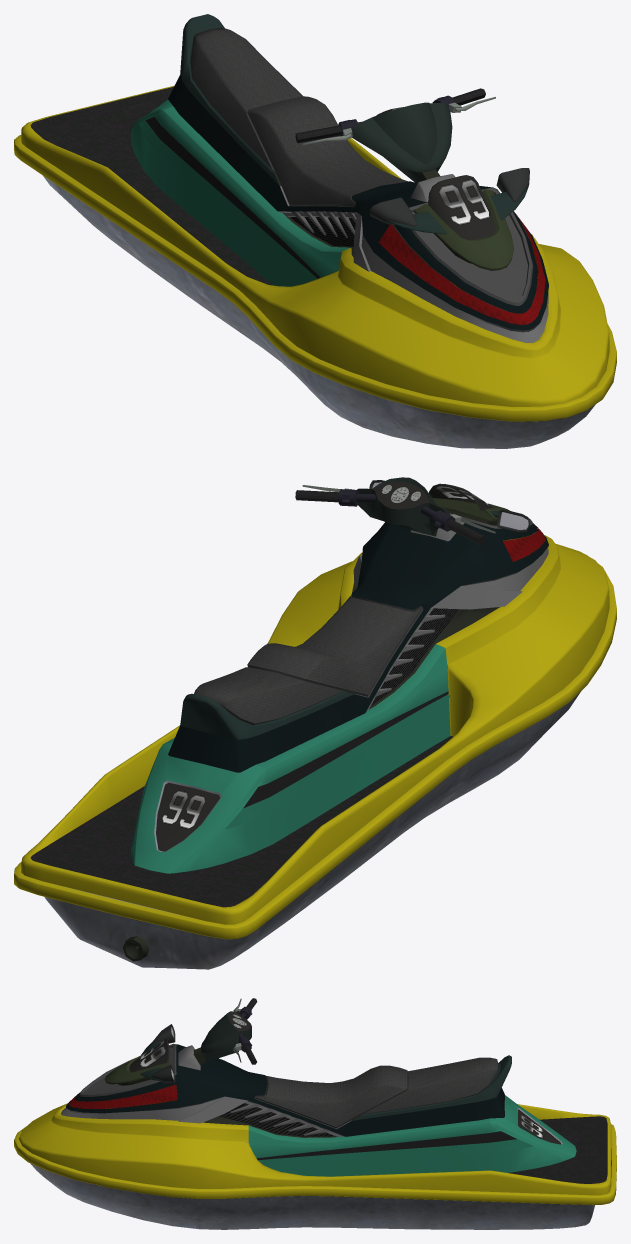
File: Jet Ski.FBX
3 views of the same model, one above another, from view 1: azimuth 30°, elevation 25°; view 2: azimuth 150°, elevation 25°; view 3: azimuth 270°, elevation 25° (orthographic). The views are drawn at different scales.
Parts seen in each view (by area): view 1: Body, Steer; view 2: Body, Steer; view 3: Body, Steer.
Boxes of the visible parts, bbox=[...] form: Body: bbox=[14, 14, 616, 448]; Steer: bbox=[295, 88, 495, 183]; Body: bbox=[14, 480, 616, 969]; Steer: bbox=[295, 477, 495, 544]; Body: bbox=[14, 1024, 616, 1229]; Steer: bbox=[193, 998, 257, 1064].
Bounding box in the file's own units: 31.48 × 32.99 × 87.39.
3 materials, 1 textured.
